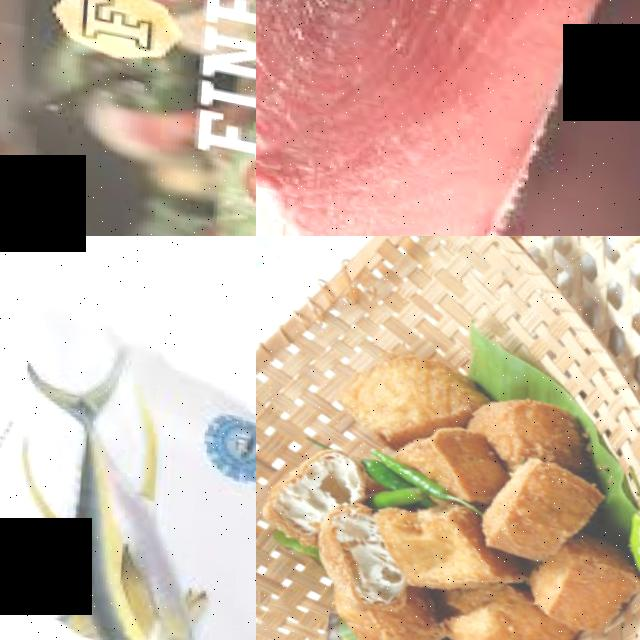tofu: (328, 337, 484, 455), (464, 440, 609, 566), (362, 496, 509, 599)
tuna: (256, 0, 596, 236)
